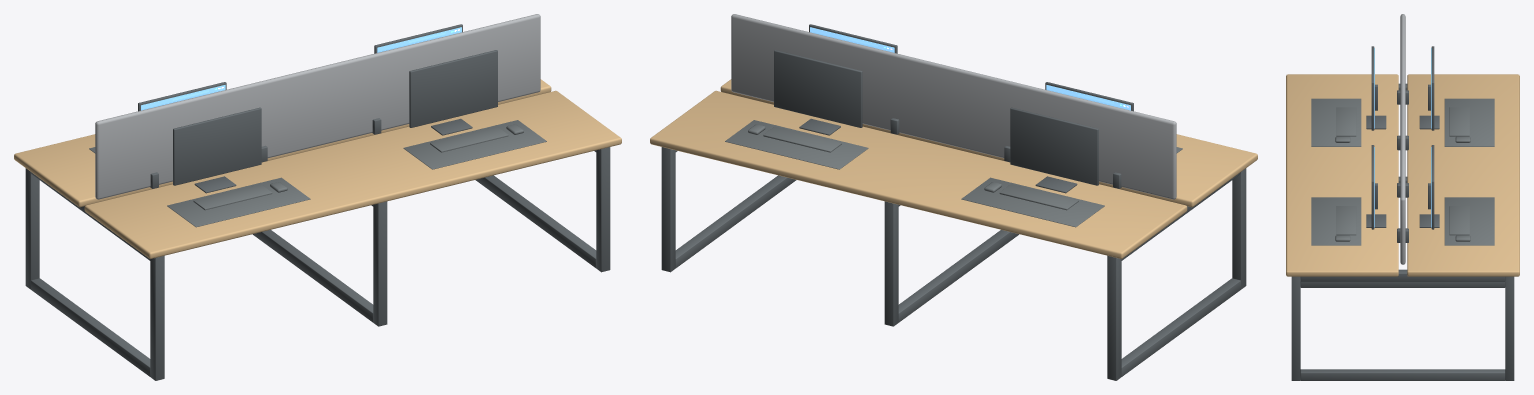
File: workstation.desk-4p.glb
3 renders of one model, left to right at view 1: azimuth 30°, elevation 25°; view 2: azimuth 150°, elevation 25°; view 3: azimuth 270°, elevation 25°, orthographic. The views are drawn at different scales.
Parts seen in each view (by area): view 1: workstation.desk-4p; view 2: workstation.desk-4p; view 3: workstation.desk-4p.
Part boxes in pixels (x1,y1,x2,y2): workstation.desk-4p: (14, 14, 621, 380); workstation.desk-4p: (650, 14, 1257, 380); workstation.desk-4p: (1286, 14, 1519, 380).
Size of the model in its own units: 2.8 by 1.19 by 1.4.
5 materials, 1 textured.
